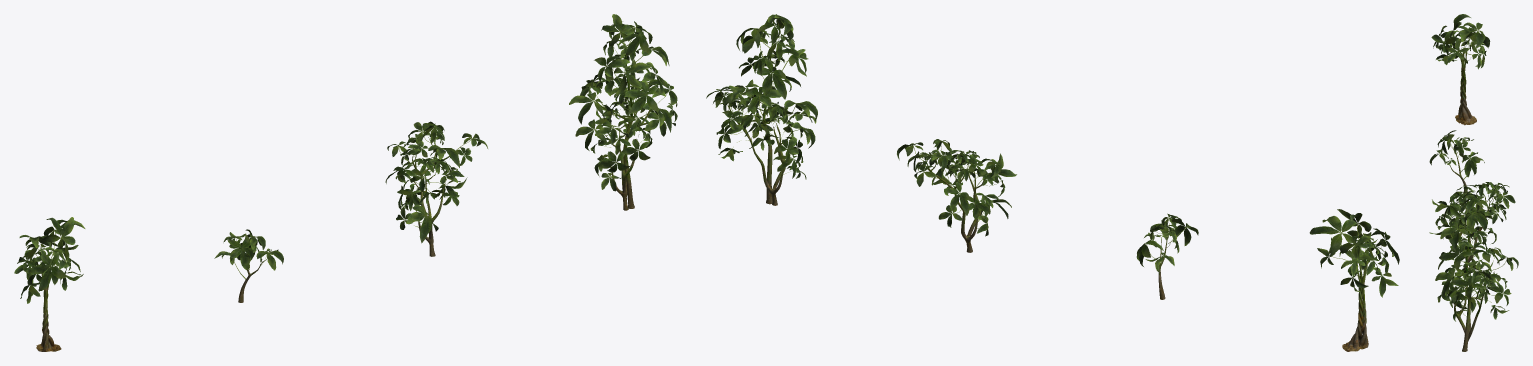
Rendered from pachira_aquatica_01.glb.
3 renders of one model, left to right at view 1: azimuth 30°, elevation 25°; view 2: azimuth 150°, elevation 25°; view 3: azimuth 270°, elevation 25°, orthographic. The views are drawn at different scales.
Visible parts, largest first — view 1: pachira_aquatica_01_leaves_d, pachira_aquatica_01_leaves_c, pachira_aquatica_01_leaves_a, pachira_aquatica_01_leaves_b, pachira_aquatica_01_bark_d, pachira_aquatica_01_bark_c, pachira_aquatica_01_bark_a; view 2: pachira_aquatica_01_leaves_d, pachira_aquatica_01_leaves_c, pachira_aquatica_01_leaves_a, pachira_aquatica_01_leaves_b, pachira_aquatica_01_bark_d, pachira_aquatica_01_bark_a, pachira_aquatica_01_bark_c; view 3: pachira_aquatica_01_leaves_d, pachira_aquatica_01_leaves_c, pachira_aquatica_01_leaves_a, pachira_aquatica_01_leaves_b, pachira_aquatica_01_bark_d, pachira_aquatica_01_bark_a, pachira_aquatica_01_bark_c, pachira_aquatica_01_bark_b.
Boxes of the visible parts, left/top/right/bottom form: pachira_aquatica_01_leaves_d: left=569, top=14, right=677, bottom=191; pachira_aquatica_01_leaves_c: left=385, top=121, right=487, bottom=243; pachira_aquatica_01_leaves_a: left=14, top=217, right=85, bottom=303; pachira_aquatica_01_leaves_b: left=214, top=229, right=283, bottom=279; pachira_aquatica_01_bark_d: left=595, top=44, right=652, bottom=210; pachira_aquatica_01_bark_c: left=409, top=137, right=457, bottom=256; pachira_aquatica_01_bark_a: left=36, top=265, right=61, bottom=351; pachira_aquatica_01_leaves_d: left=706, top=14, right=817, bottom=179; pachira_aquatica_01_leaves_c: left=897, top=139, right=1016, bottom=236; pachira_aquatica_01_leaves_a: left=1309, top=209, right=1399, bottom=297; pachira_aquatica_01_leaves_b: left=1136, top=213, right=1198, bottom=274; pachira_aquatica_01_bark_d: left=728, top=43, right=792, bottom=205; pachira_aquatica_01_bark_a: left=1342, top=259, right=1368, bottom=351; pachira_aquatica_01_bark_c: left=923, top=159, right=985, bottom=252; pachira_aquatica_01_leaves_d: left=1429, top=190, right=1518, bottom=321; pachira_aquatica_01_leaves_c: left=1432, top=182, right=1515, bottom=244; pachira_aquatica_01_leaves_a: left=1431, top=14, right=1490, bottom=69; pachira_aquatica_01_leaves_b: left=1429, top=130, right=1484, bottom=179; pachira_aquatica_01_bark_d: left=1454, top=219, right=1492, bottom=351; pachira_aquatica_01_bark_a: left=1455, top=48, right=1476, bottom=125; pachira_aquatica_01_bark_c: left=1453, top=190, right=1497, bottom=268; pachira_aquatica_01_bark_b: left=1447, top=149, right=1467, bottom=194.
Bounding box in the file's own units: 6.87 × 1.9 × 0.997.
2 materials, 2 textured.
